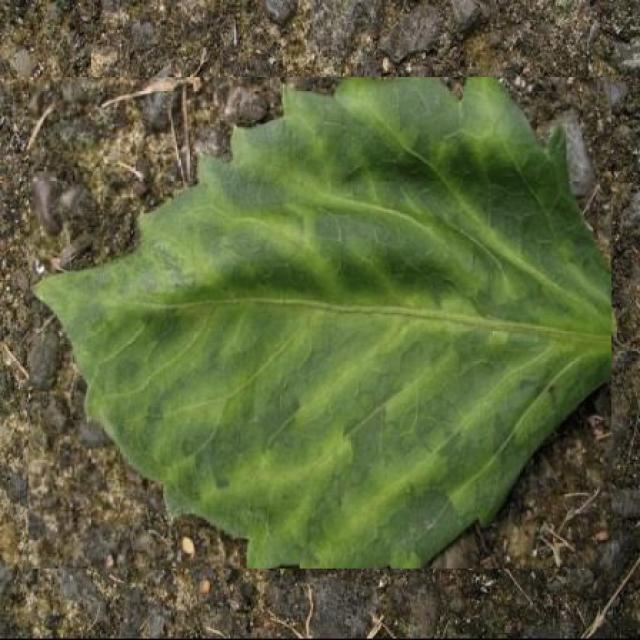Mosaic Virus: (29, 77, 612, 569)
